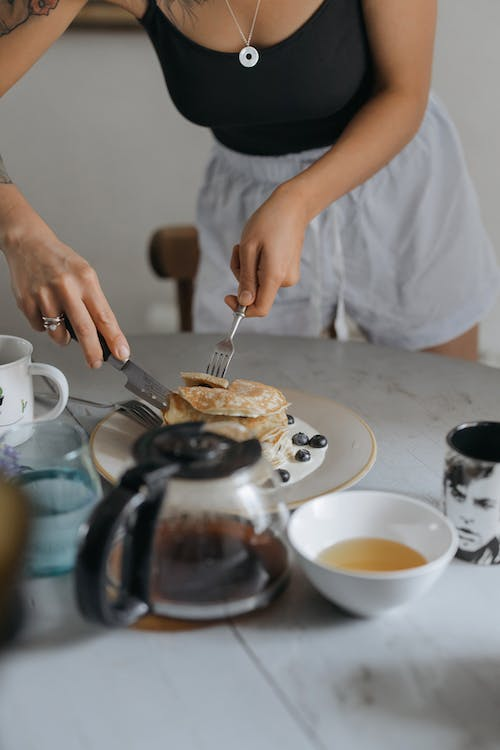knife: (61, 312, 199, 407)
